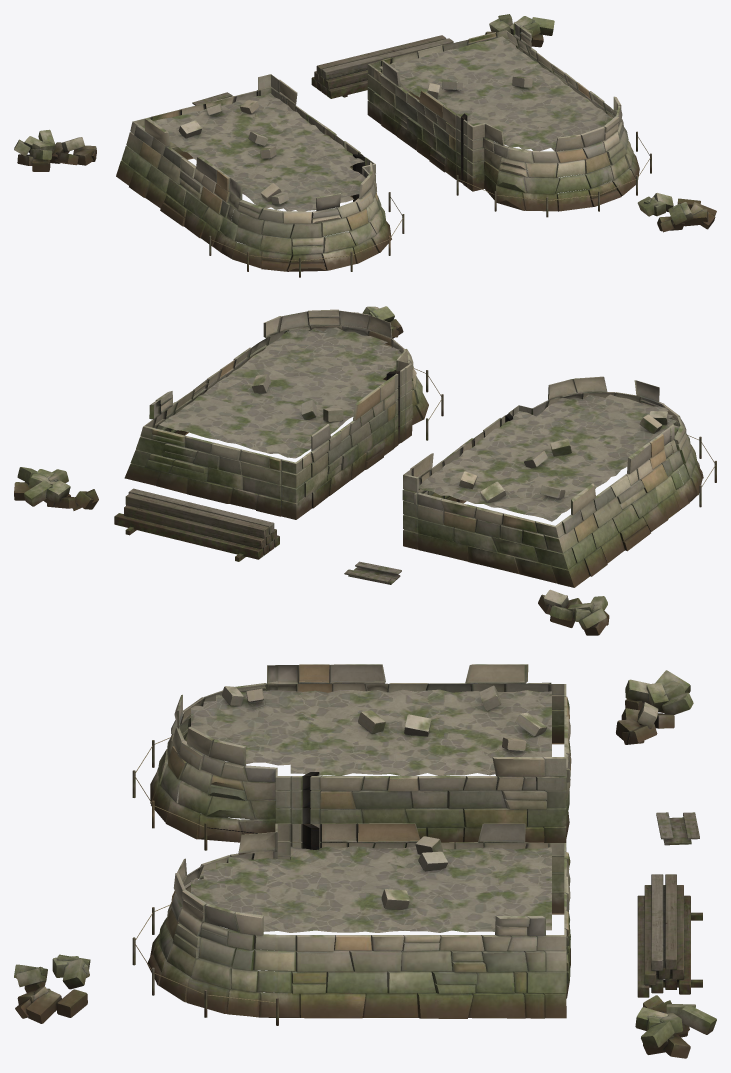
File: gatehouse_build1.glb
3 views of the same model, one above another, from view 1: azimuth 30°, elevation 25°; view 2: azimuth 150°, elevation 25°; view 3: azimuth 270°, elevation 25° (orthographic). The views are drawn at different scales.
Visible parts, largest first — view 1: gatehouse_build1_LOD0; view 2: gatehouse_build1_LOD0; view 3: gatehouse_build1_LOD0.
Boxes of the visible parts, left/top/right/bottom form: gatehouse_build1_LOD0: left=14, top=14, right=716, bottom=277; gatehouse_build1_LOD0: left=14, top=306, right=716, bottom=635; gatehouse_build1_LOD0: left=14, top=664, right=716, bottom=1058.
Size of what is drawn, in the model's own units: 17.34 by 2.19 by 14.21.
1 material, 1 textured.
